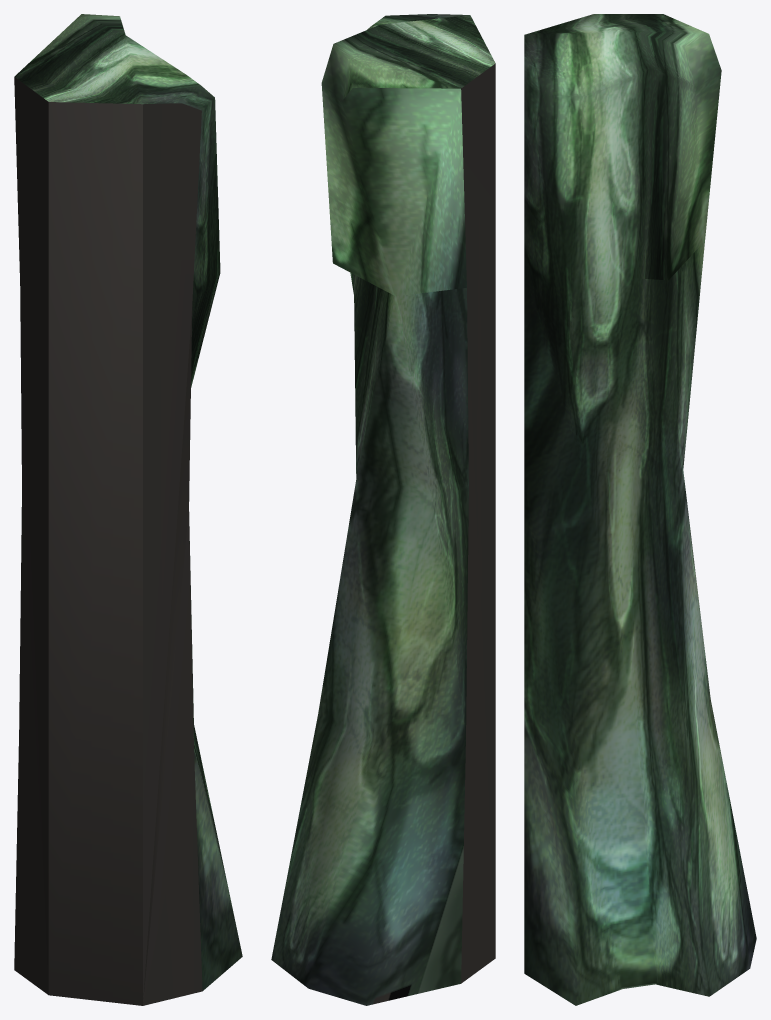
File: a_SWFswall01b.glb
3 renders of one model, left to right at view 1: azimuth 30°, elevation 25°; view 2: azimuth 150°, elevation 25°; view 3: azimuth 270°, elevation 25°, orthographic.
Visible parts, largest first — view 1: a_SWFswall01b; view 2: a_SWFswall01b; view 3: a_SWFswall01b.
Part boxes in pixels (x1=…): a_SWFswall01b: x1=14, y1=14, x2=242, y2=1005; a_SWFswall01b: x1=271, y1=14, x2=495, y2=1005; a_SWFswall01b: x1=524, y1=14, x2=756, y2=1005.
Size of the model in its own units: 1.55 by 7.38 by 1.67.
1 material, 1 textured.
